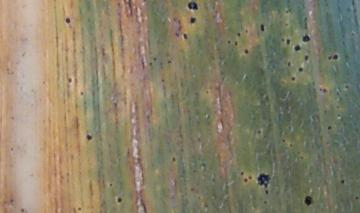tarspot: (255, 172, 270, 188), (303, 194, 313, 208), (186, 1, 199, 11), (302, 16, 310, 32), (189, 15, 197, 27), (301, 33, 310, 43), (100, 46, 107, 58), (293, 43, 302, 52), (64, 16, 72, 25), (259, 22, 265, 33), (331, 53, 339, 61), (111, 100, 119, 108), (115, 196, 124, 203), (66, 76, 73, 84), (174, 31, 181, 39), (303, 54, 309, 63), (326, 53, 332, 62), (285, 37, 291, 46), (243, 27, 249, 36), (339, 178, 346, 185), (297, 66, 304, 73), (321, 87, 328, 94), (8, 197, 15, 204), (263, 94, 270, 101), (335, 112, 342, 119), (243, 47, 249, 55), (182, 32, 188, 40), (286, 59, 292, 67), (9, 114, 15, 122), (264, 188, 270, 195), (86, 134, 92, 141), (233, 40, 239, 47), (256, 128, 262, 135), (290, 75, 296, 82), (262, 198, 268, 205), (343, 84, 350, 90), (9, 146, 15, 153), (204, 88, 210, 95), (279, 37, 286, 43), (243, 176, 248, 184), (350, 1, 355, 9), (239, 170, 245, 176), (108, 182, 114, 188), (79, 90, 85, 96), (166, 59, 172, 65), (76, 205, 82, 211), (19, 207, 25, 213), (283, 21, 289, 27), (284, 9, 290, 15), (353, 195, 360, 200), (326, 124, 331, 131), (247, 174, 252, 181), (281, 137, 286, 144), (171, 156, 176, 163), (235, 31, 240, 38), (148, 61, 153, 68), (288, 142, 293, 149), (160, 78, 165, 84), (226, 39, 231, 45), (152, 56, 157, 61)
